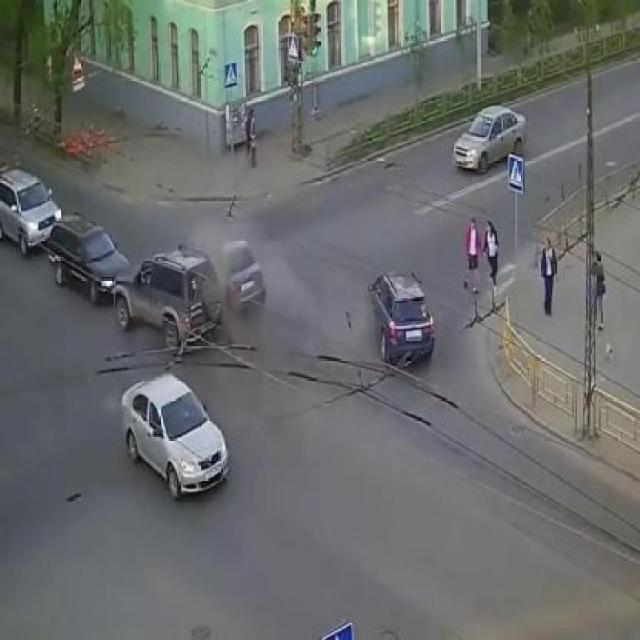Car Accident Detector - v4 Generation1 Exported: (102, 240, 265, 354)
